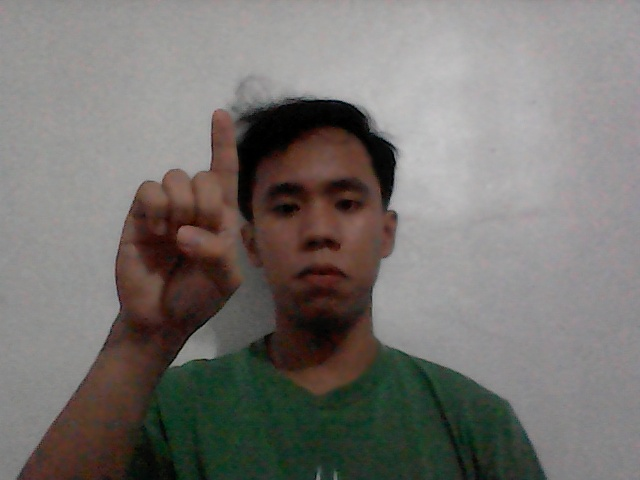D: (86, 95, 278, 355)
